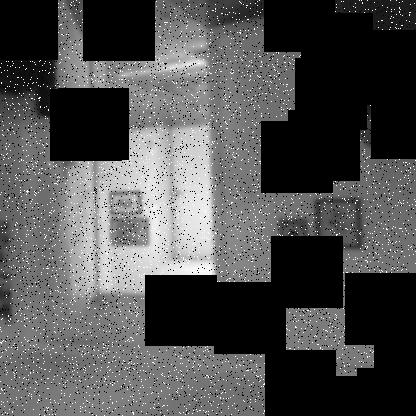Porte: (44, 1, 232, 324)
